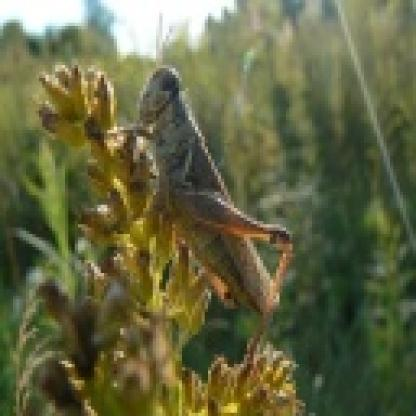grasshopper: (129, 67, 299, 379)
